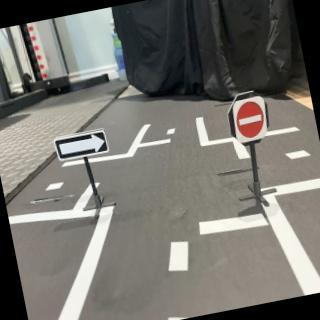sign_noentry: (231, 97, 270, 144)
sign_oneway_right: (54, 128, 111, 164)
